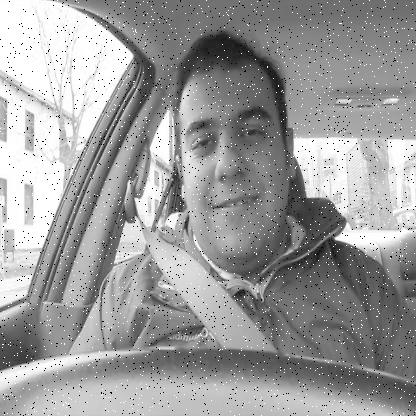seatbelt: (120, 18, 316, 352)
